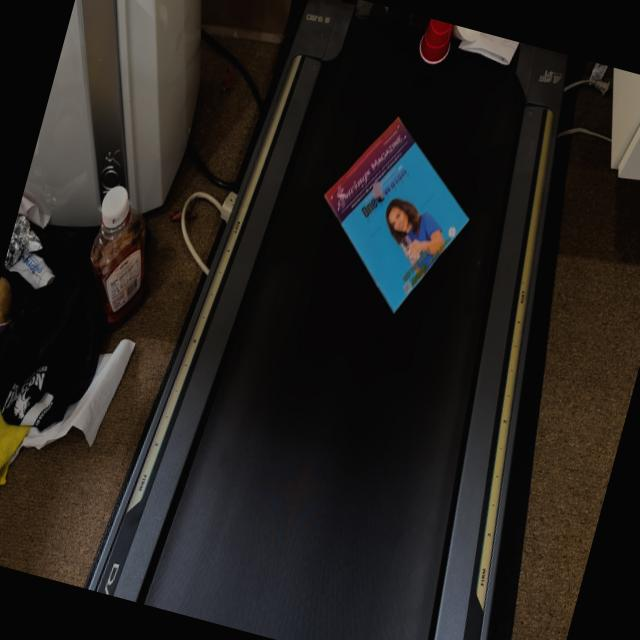Trash: (298, 100, 492, 337)
